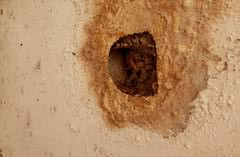Corrosion: (78, 1, 223, 140)
Spalling: (107, 30, 159, 97)
